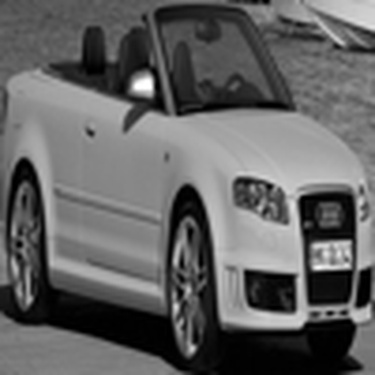car: (8, 6, 369, 352)
